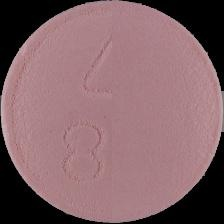0185-0820: (0, 0, 224, 224)
